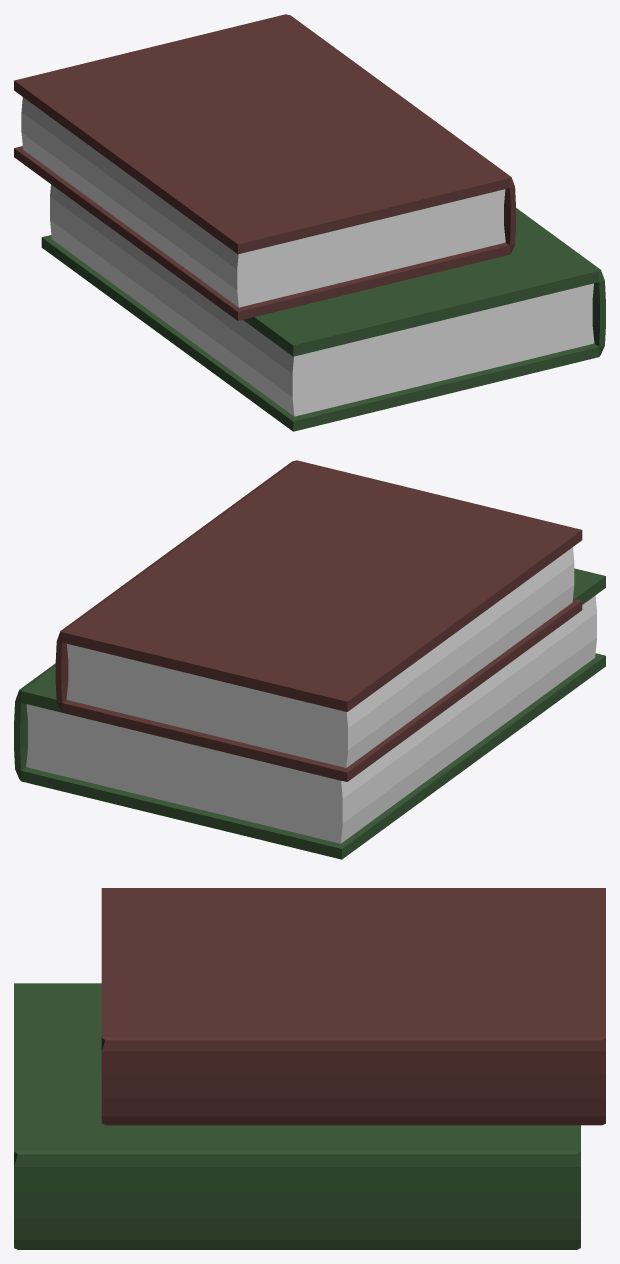
The model's file is VJ_PackLlibres_01.fbx.
The picture shows the model from 3 angles, top to bottom: view 1: azimuth 30°, elevation 25°; view 2: azimuth 150°, elevation 25°; view 3: azimuth 270°, elevation 25°; orthographic projection. The views are drawn at different scales.
Visible parts, largest first — view 1: PackLlibres_01; view 2: PackLlibres_01; view 3: PackLlibres_01.
Boxes of the visible parts, x1,y1,x2,y2 form: PackLlibres_01: (14,14,605,431); PackLlibres_01: (14,460,605,859); PackLlibres_01: (14,888,605,1249).
Size of the model in its own units: 3.62 by 1.71 by 5.01.
